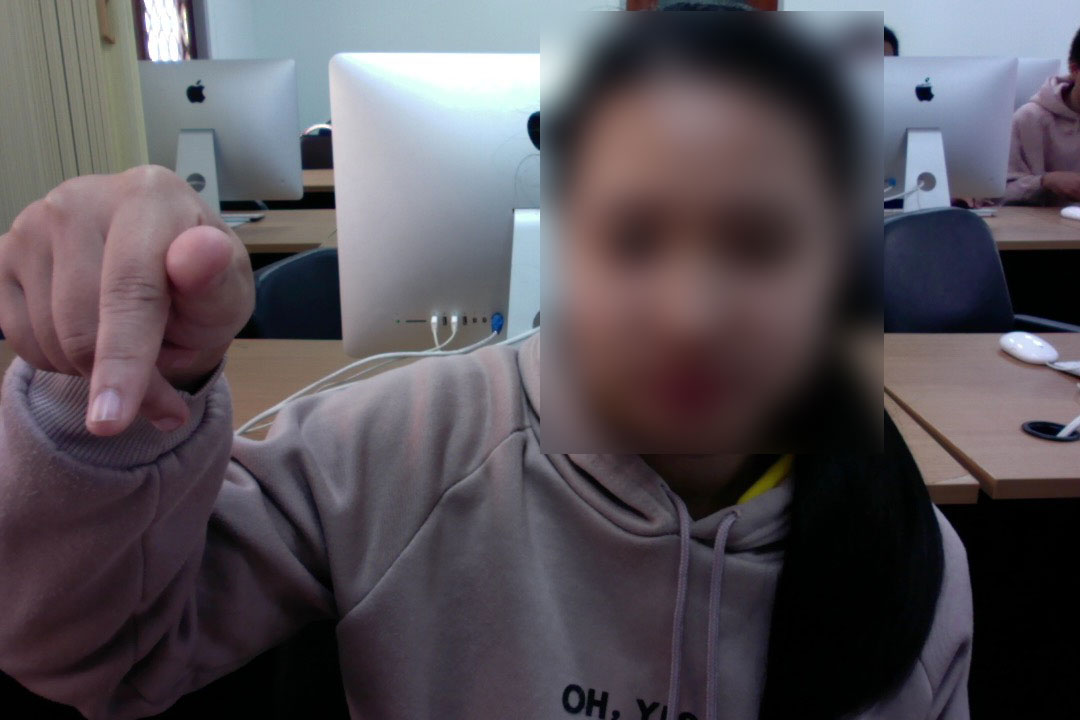por: (1, 145, 258, 442)
